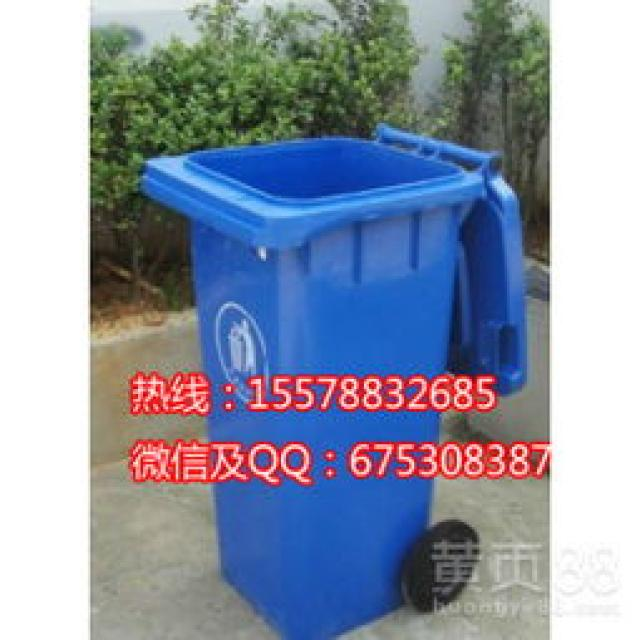garbage_bin: (141, 120, 527, 638)
